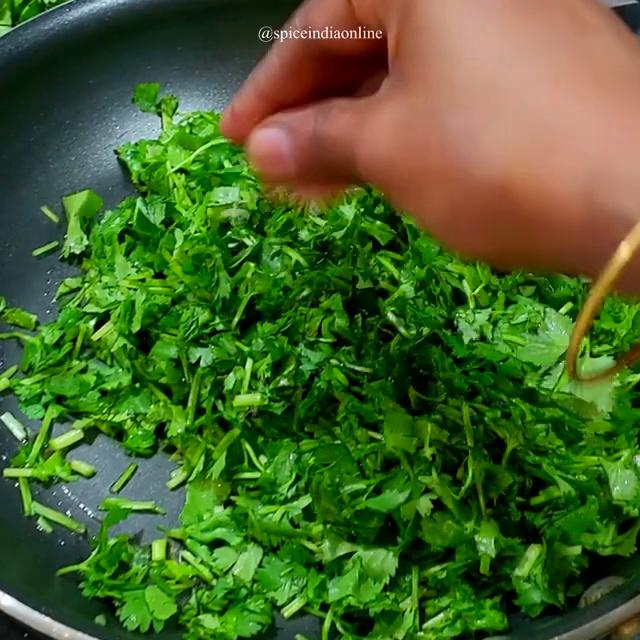cilantro: (101, 223, 506, 621)
